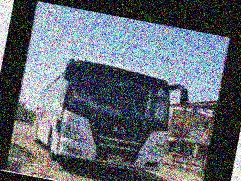bus: (32, 50, 192, 181)
